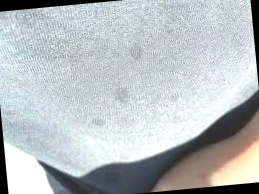oil: (91, 116, 110, 133), (115, 88, 133, 105), (134, 48, 144, 60), (173, 96, 182, 104)
